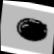correct: (6, 10, 54, 47)
